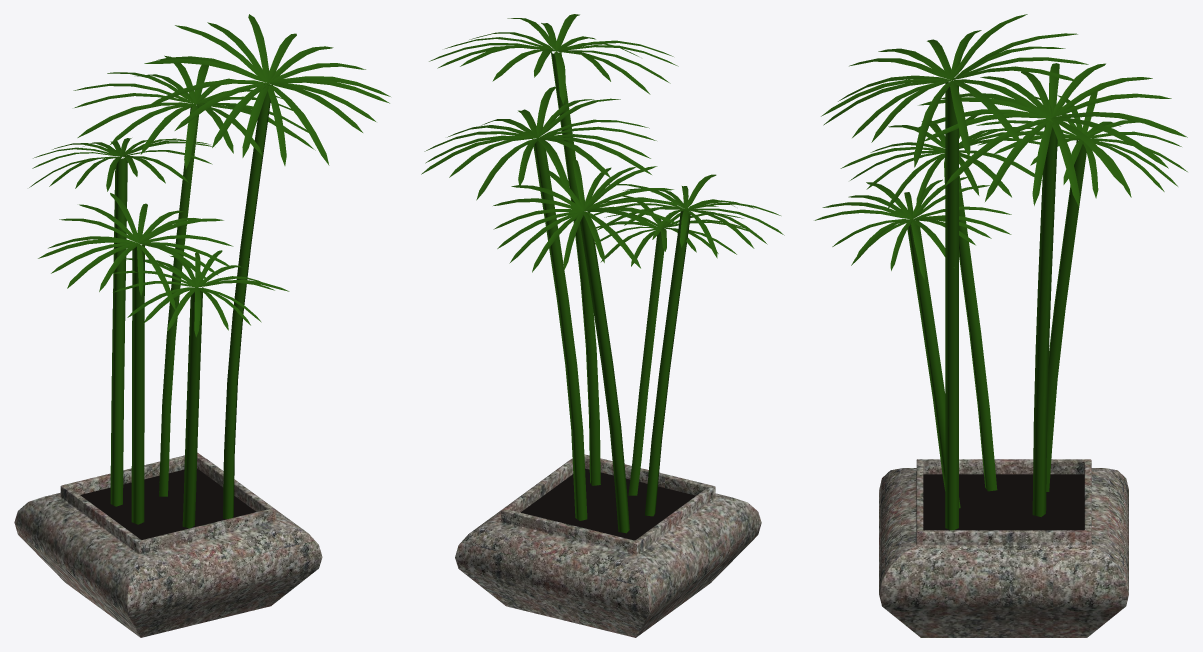
3 renders of one model, left to right at view 1: azimuth 30°, elevation 25°; view 2: azimuth 150°, elevation 25°; view 3: azimuth 270°, elevation 25°, orthographic. The views are drawn at different scales.
Parts seen in each view (by area): view 1: Node; view 2: Node; view 3: Node.
Part boxes in pixels (x1,y1,x2,y2): Node: [14, 14, 390, 637]; Node: [421, 14, 784, 637]; Node: [814, 14, 1187, 637].
Bounding box in the file's own units: 0.5901 × 0.9399 × 0.5396.
Materials: 3 (1 with a texture image).
